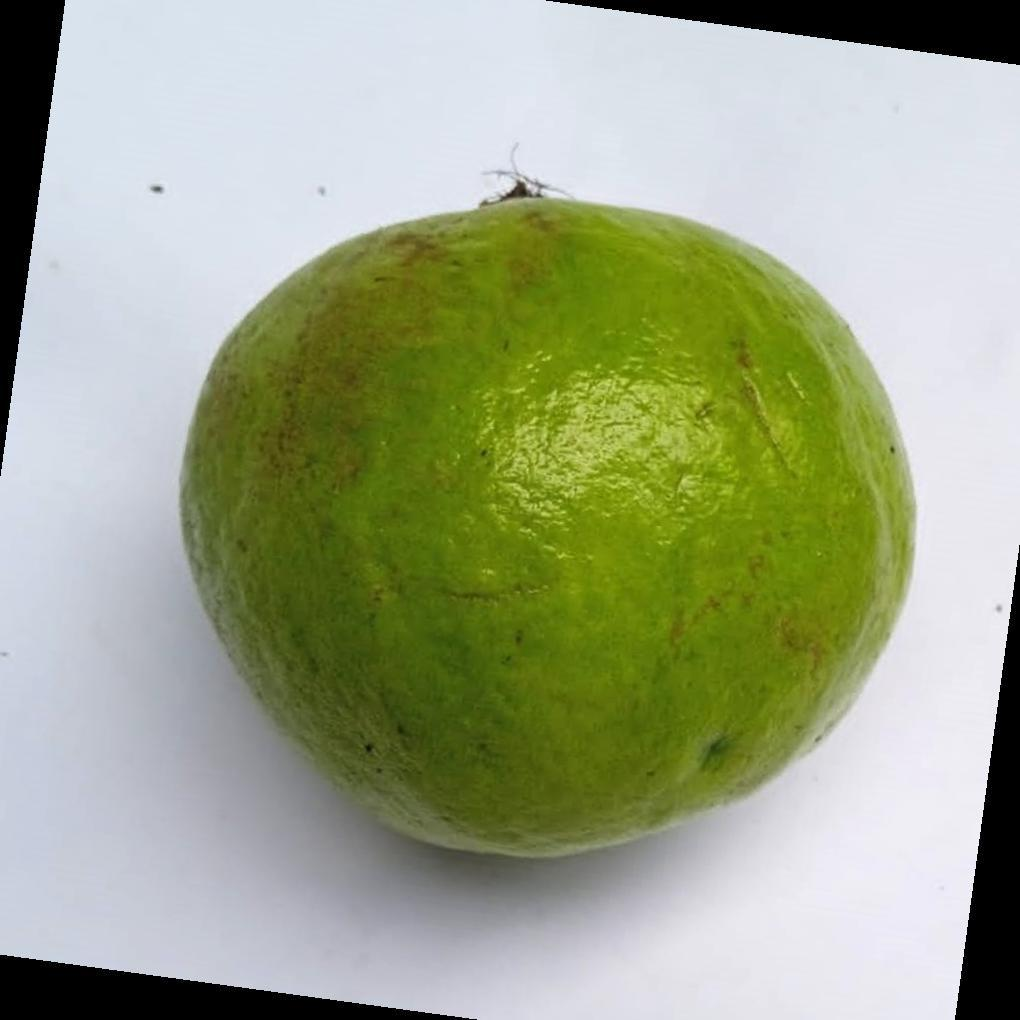FreshGuava: (177, 187, 918, 864)
